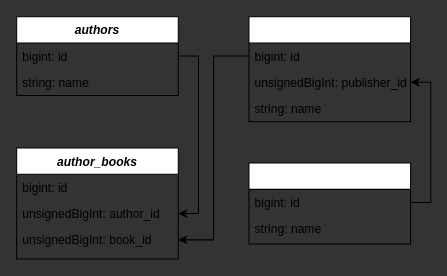
The diagram is 447 pixels wide and 276 high, and some of its shapes have lost their labels. Here are the shapes that lost their labels. From the top down, the box of each, then its label:
(248, 16, 411, 122): books
(248, 162, 411, 244): publishers
